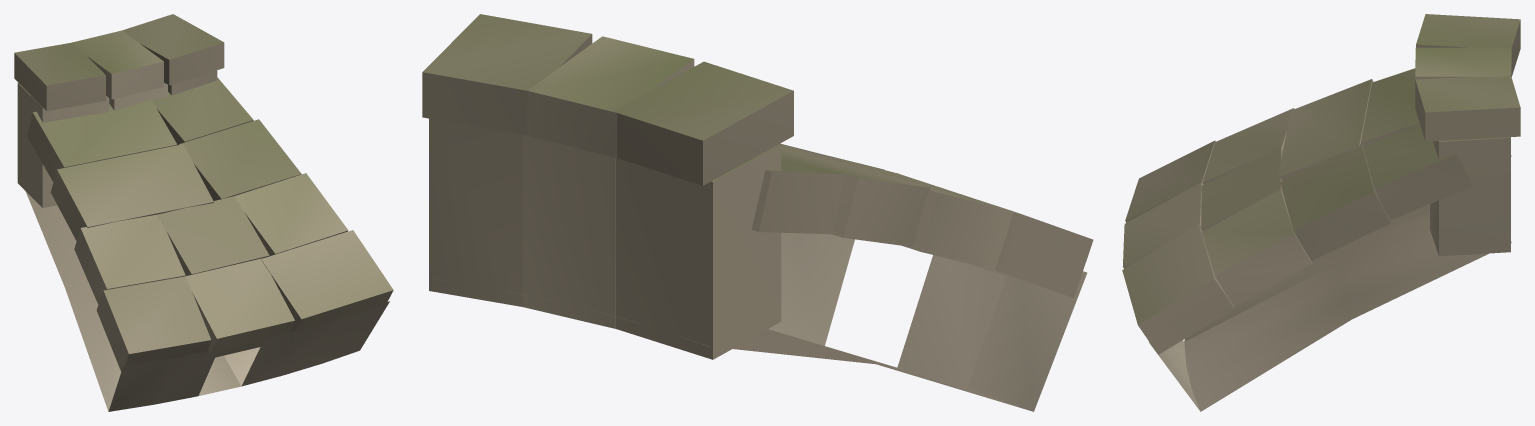
The model's file is dome_shell_b0_mid.glb.
3 views of the same model, side by side, from view 1: azimuth 30°, elevation 25°; view 2: azimuth 150°, elevation 25°; view 3: azimuth 270°, elevation 25° (orthographic). The views are drawn at different scales.
Visible parts, largest first — view 1: dome_shell_b0_mid; view 2: dome_shell_b0_mid; view 3: dome_shell_b0_mid.
Boxes of the visible parts, <box> form: dome_shell_b0_mid: <box>14,14,393,411</box>; dome_shell_b0_mid: <box>422,14,1093,411</box>; dome_shell_b0_mid: <box>1122,14,1520,411</box>.
Bounding box in the file's own units: 10.59 × 9.29 × 12.03.
